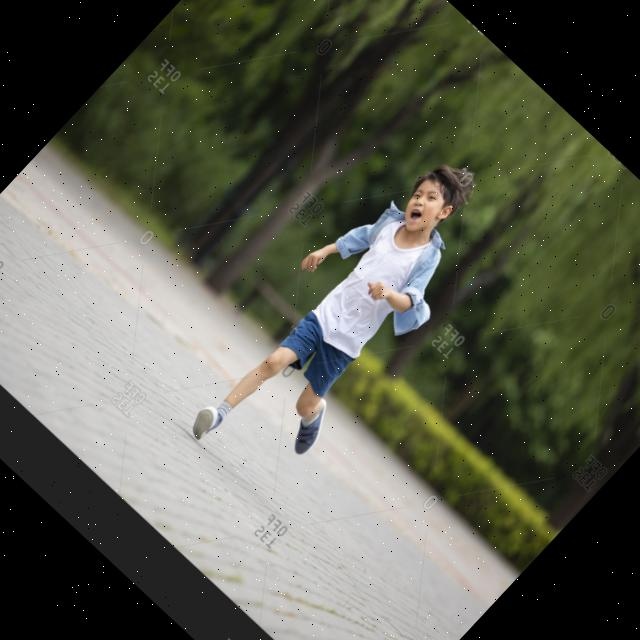Person: (164, 128, 524, 500)
